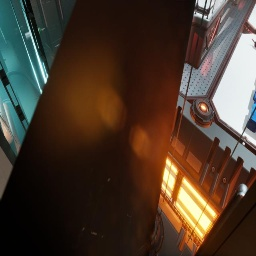0: (25, 27, 45, 41)
FireExtinguisher ]: (252, 38, 256, 48)
